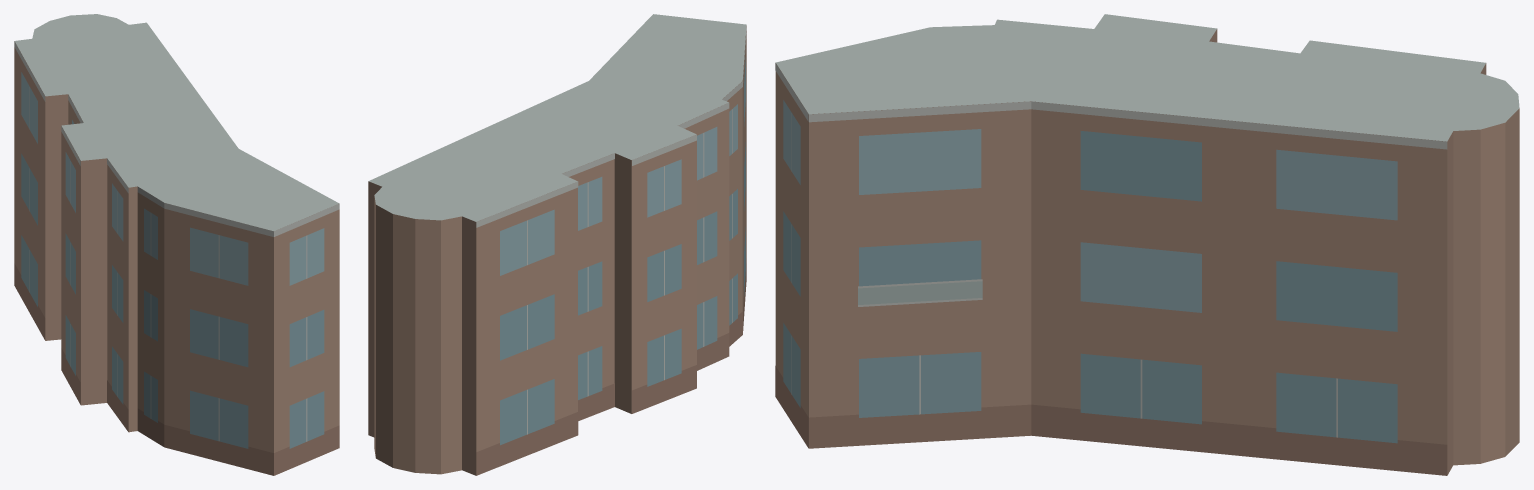
Rendered from survey-upis-32812402.glb.
The picture shows the model from 3 angles, left to right: view 1: azimuth 30°, elevation 25°; view 2: azimuth 150°, elevation 25°; view 3: azimuth 270°, elevation 25°; orthographic projection. The views are drawn at different scales.
Parts seen in each view (by area): view 1: survey-upis-32812402.tmp; view 2: survey-upis-32812402.tmp; view 3: survey-upis-32812402.tmp.
Boxes of the visible parts, x1,y1,x2,y2 form: survey-upis-32812402.tmp: (14, 14, 339, 475); survey-upis-32812402.tmp: (368, 14, 746, 475); survey-upis-32812402.tmp: (775, 14, 1519, 475).
Size of the model in its own units: 8.35 by 10.2 by 20.58.
